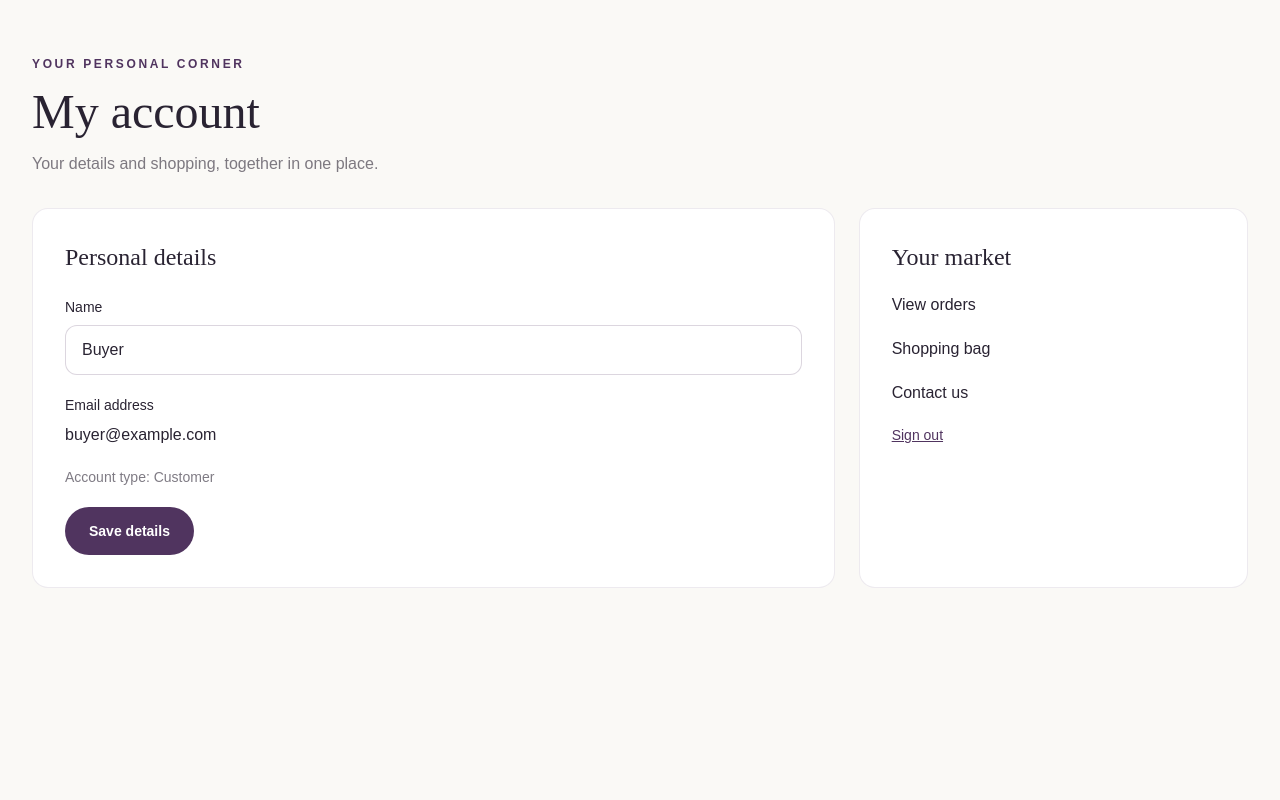
saving sends only name and updates current account
Step 1. Replace the text in the field labelled "Name" with "New name" → (433, 350), box [65,325,802,375]
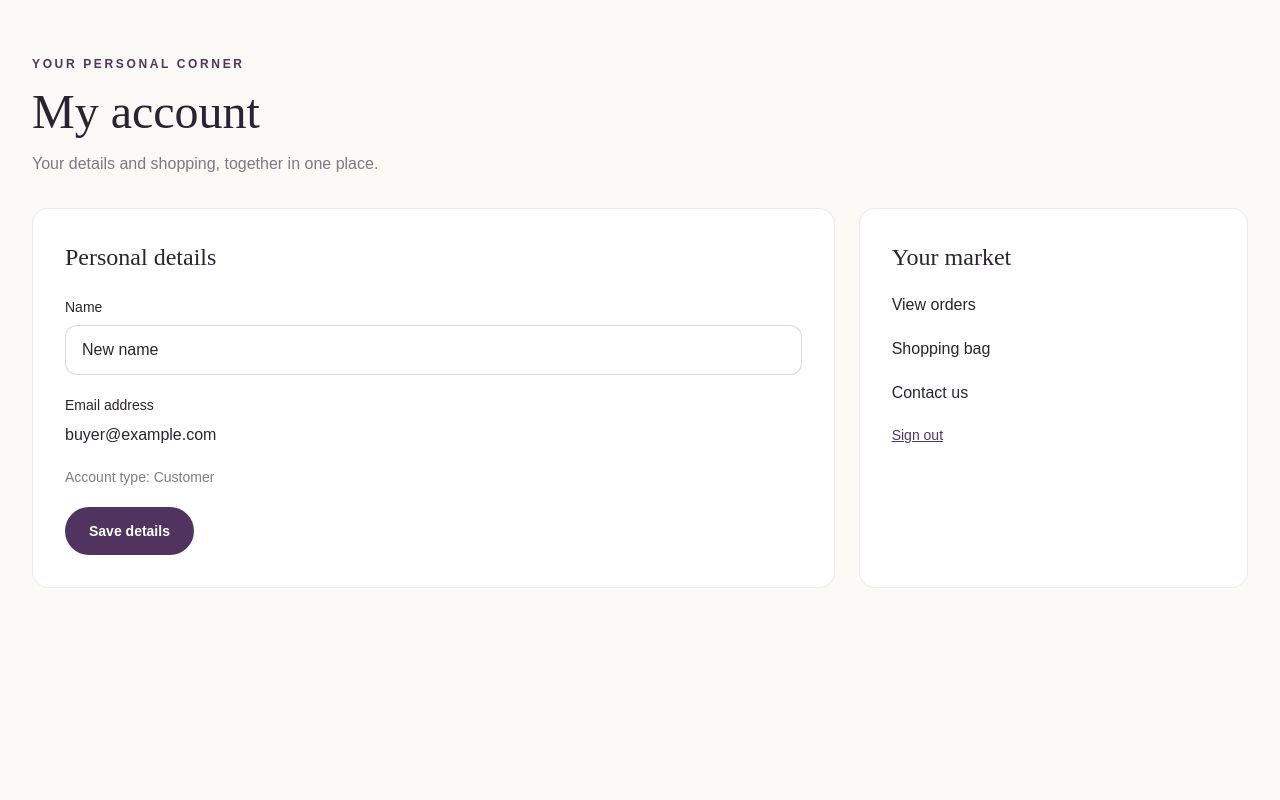
Step 2. Click the button "Save details" → click(129, 531), box [65,507,194,555]
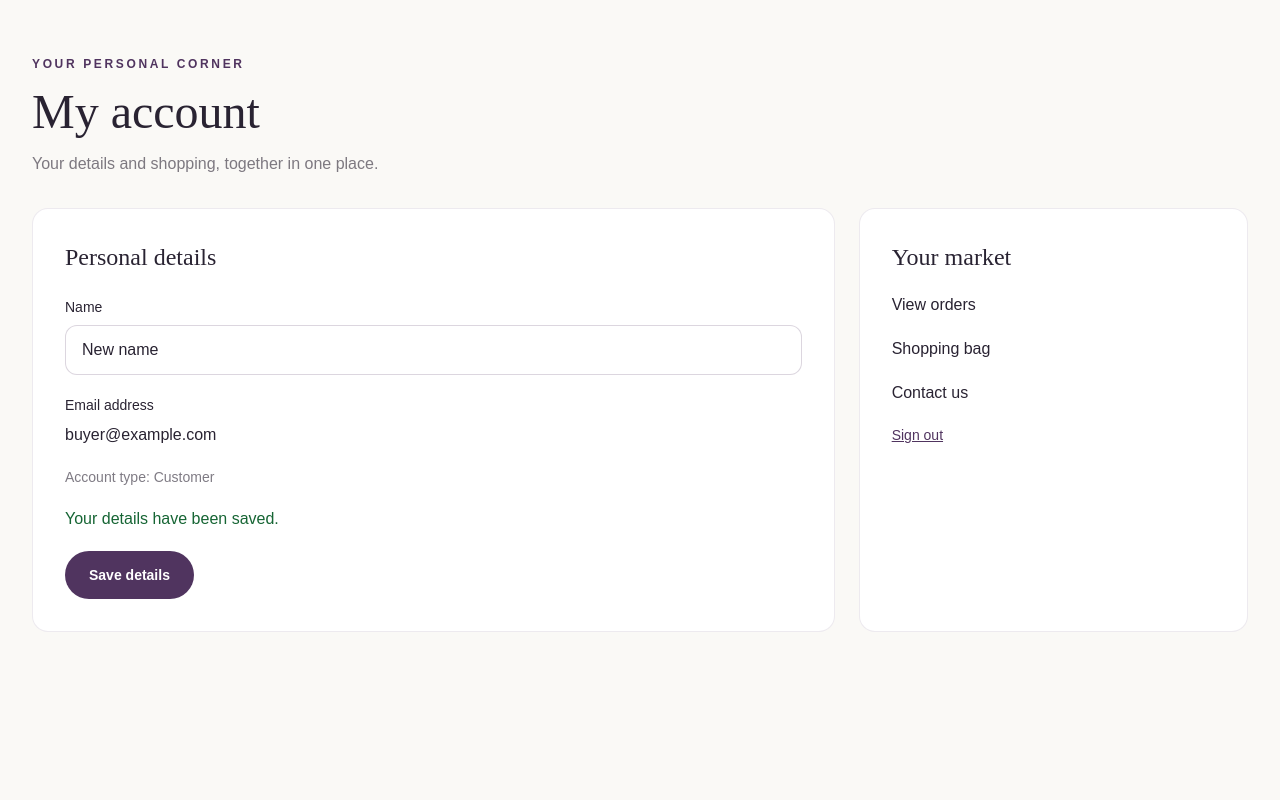
Result: the message shows "saved" at [65,510,279,527]
